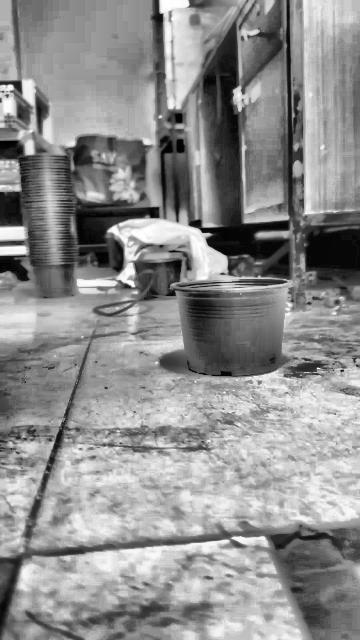pot: (171, 279, 290, 376)
